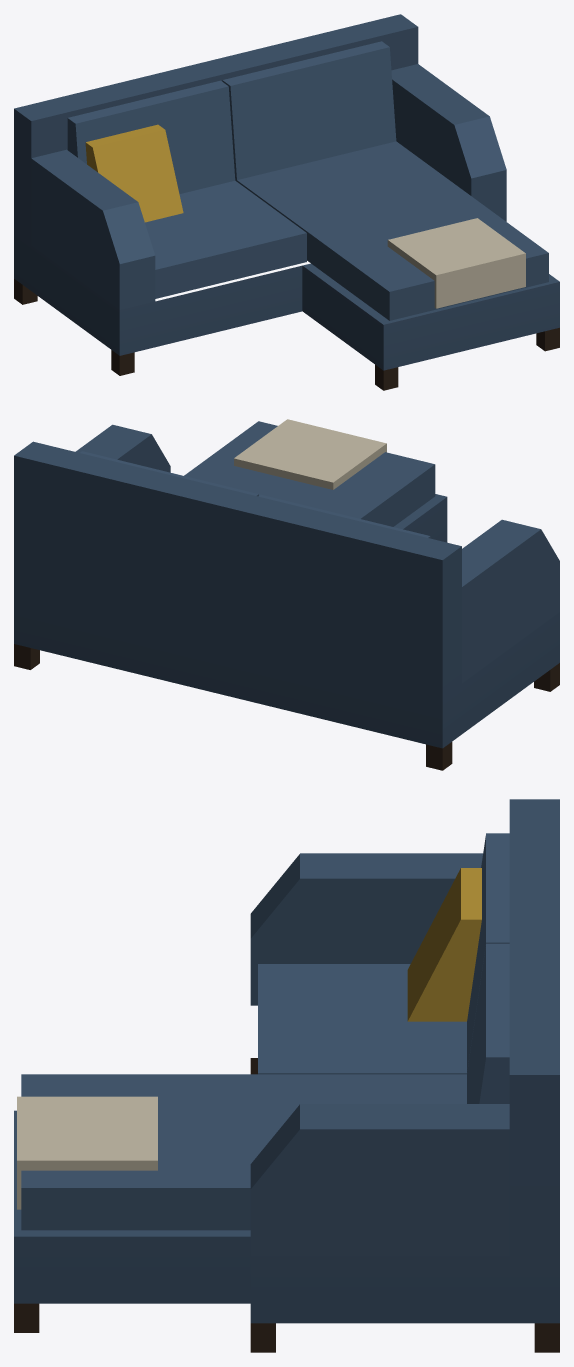
Rendered from sofa.corner.blue.glb.
The picture shows the model from 3 angles, top to bottom: view 1: azimuth 30°, elevation 25°; view 2: azimuth 150°, elevation 25°; view 3: azimuth 270°, elevation 25°; orthographic projection. The views are drawn at different scales.
Visible parts, largest first — view 1: sofa_corner_blue; view 2: sofa_corner_blue; view 3: sofa_corner_blue.
Boxes of the visible parts, left/top/right/bottom form: sofa_corner_blue: left=14, top=14, right=559, bottom=390; sofa_corner_blue: left=14, top=419, right=559, bottom=770; sofa_corner_blue: left=14, top=799, right=559, bottom=1352.
Size of what is drawn, in the model's own units: 1.81 by 0.85 by 1.51.
